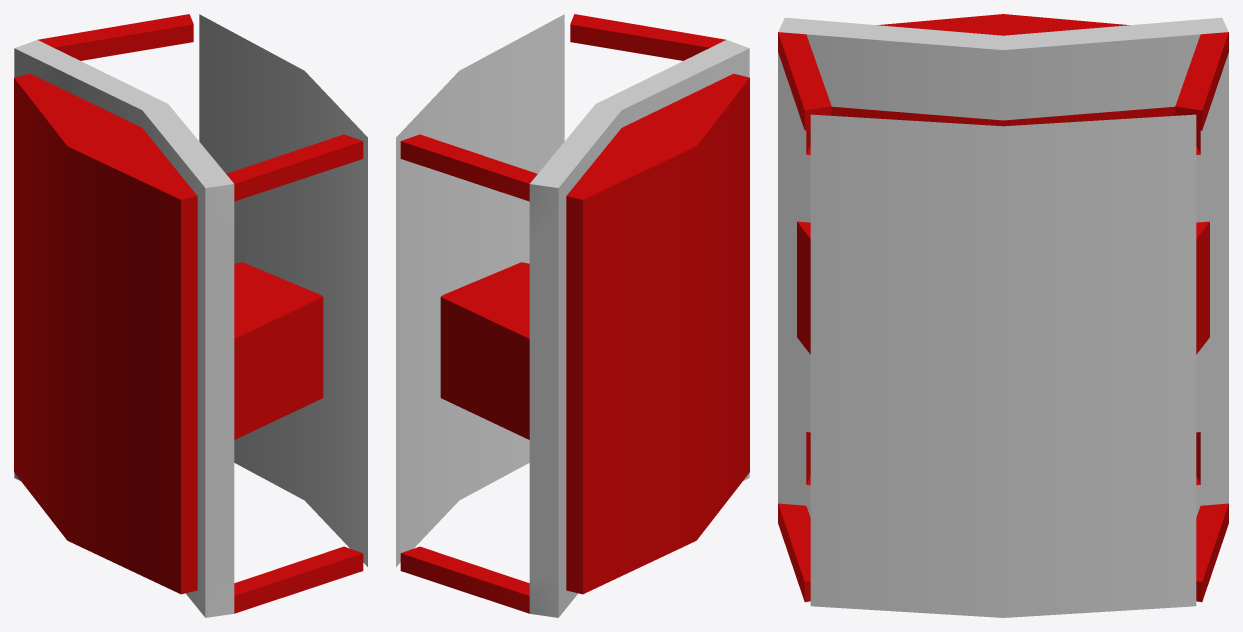
Rendered from Tv_sreen.fbx.
3 renders of one model, left to right at view 1: azimuth 30°, elevation 25°; view 2: azimuth 150°, elevation 25°; view 3: azimuth 270°, elevation 25°, orthographic. The views are drawn at different scales.
Parts seen in each view (by area): view 1: tv_screen, screen; view 2: tv_screen, screen; view 3: screen, tv_screen.
Boxes of the visible parts, bbox=[...] form: tv_screen: bbox=[14, 14, 363, 617]; screen: bbox=[199, 14, 367, 566]; tv_screen: bbox=[400, 14, 749, 617]; screen: bbox=[396, 14, 564, 566]; screen: bbox=[810, 114, 1196, 617]; tv_screen: bbox=[778, 14, 1228, 602].
Size of the model in its own units: 166 by 116 by 200.
